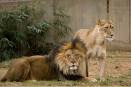lion: (9, 43, 91, 79), (72, 20, 114, 85)
